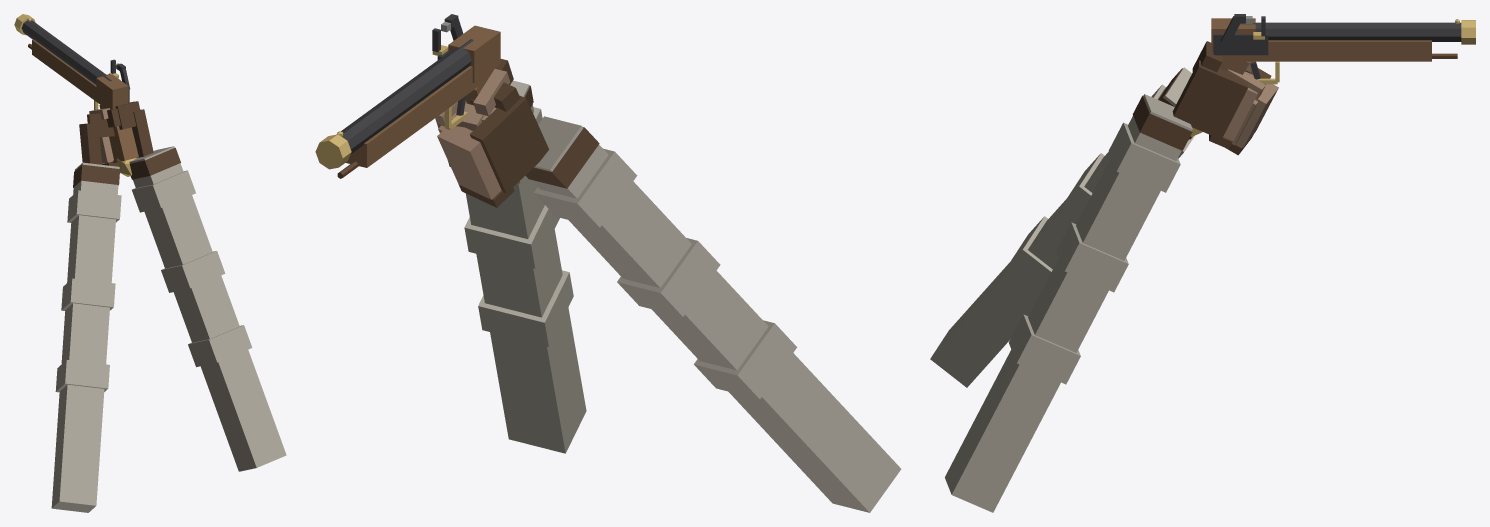
File: flintlock.glb
The picture shows the model from 3 angles, left to right: view 1: azimuth 30°, elevation 25°; view 2: azimuth 150°, elevation 25°; view 3: azimuth 270°, elevation 25°; orthographic projection. The views are drawn at different scales.
Parts seen in each view (by area): view 1: FR_Forearm, FL_Forearm, FR_Wrap2, FR_Wrap1, FR_Wrap0, F_Barrel, FL_Wrap0, FL_Wrap1, FL_Wrap2, F_Stock, F_Breech, FR_Bracelet (+6 smaller); view 2: FL_Forearm, FR_Forearm, FL_Palm, F_Barrel, FL_Wrap0, FL_Wrap1, FL_Wrap2, F_Stock, FR_Wrap2, FR_Wrap1, FL_Fingers, FL_Bracelet (+3 smaller); view 3: FR_Forearm, FL_Forearm, F_Barrel, F_Stock, FR_Palm, FR_Wrap0, FR_Wrap1, FR_Wrap2, FL_Wrap2, FR_Bracelet, F_Lock, FL_Wrap1 (+3 smaller).
Boxes of the visible parts, box(x1,y1,x2,y2) form: FR_Forearm: box(129, 146, 286, 471); FL_Forearm: box(51, 162, 119, 512); FR_Wrap2: box(188, 325, 252, 367); FR_Wrap1: box(161, 251, 225, 292); FR_Wrap0: box(132, 170, 195, 212); F_Barrel: box(21, 20, 111, 84); FL_Wrap0: box(67, 190, 121, 222); FL_Wrap1: box(61, 278, 115, 310); FL_Wrap2: box(55, 360, 109, 392); F_Stock: box(32, 39, 105, 107); F_Breech: box(96, 74, 128, 109); FR_Bracelet: box(129, 147, 180, 179); FL_Forearm: box(531, 116, 901, 512); FR_Forearm: box(465, 80, 586, 453); FL_Palm: box(469, 95, 548, 193); F_Barrel: box(336, 39, 473, 154); FL_Wrap0: box(534, 148, 637, 227); FL_Wrap1: box(617, 238, 720, 316); FL_Wrap2: box(694, 320, 797, 399); F_Stock: box(345, 66, 485, 167); FR_Wrap2: box(478, 270, 573, 346); FR_Wrap1: box(464, 205, 559, 268); FL_Fingers: box(437, 126, 501, 199); FL_Bracelet: box(525, 127, 599, 188); FR_Forearm: box(945, 94, 1192, 512); FL_Forearm: box(930, 67, 1191, 387); F_Barrel: box(1240, 22, 1461, 41); F_Stock: box(1234, 40, 1431, 61); FR_Palm: box(1172, 60, 1248, 139); FR_Wrap0: box(1108, 122, 1180, 192); FR_Wrap1: box(1056, 222, 1128, 292); FR_Wrap2: box(1008, 314, 1080, 384); FL_Wrap2: box(1006, 216, 1052, 293); FR_Bracelet: box(1132, 95, 1192, 150); F_Lock: box(1213, 33, 1268, 55); FL_Wrap1: box(1063, 153, 1104, 217).
Size of the model in its own units: 0.4852 by 0.6976 by 0.7429.
